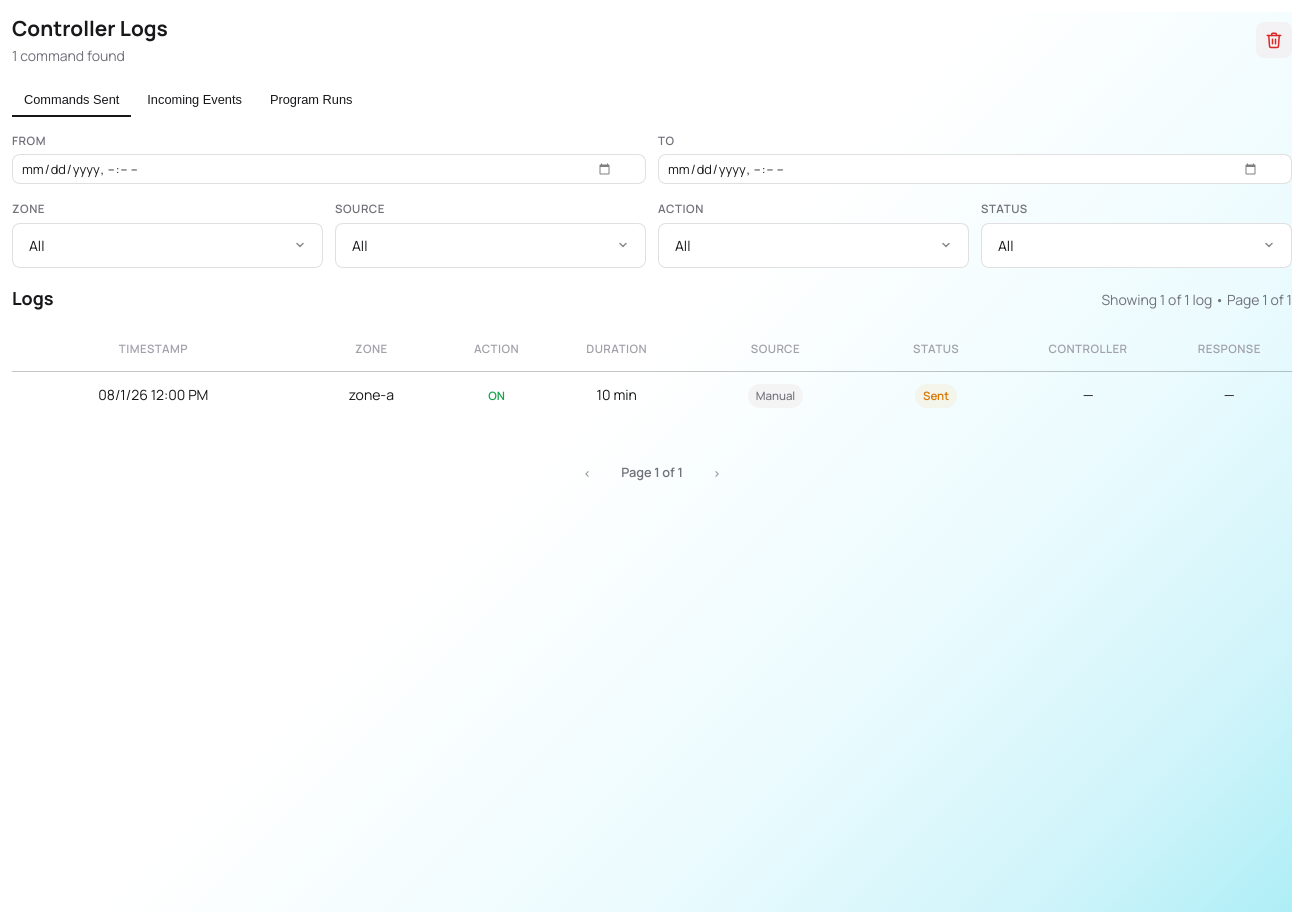
LogsPage › fetches sequential runs only after switching to the Program Runs tab
Click the button "Program Runs". click: coordinates (311, 100)
box: [258,84,364,117]
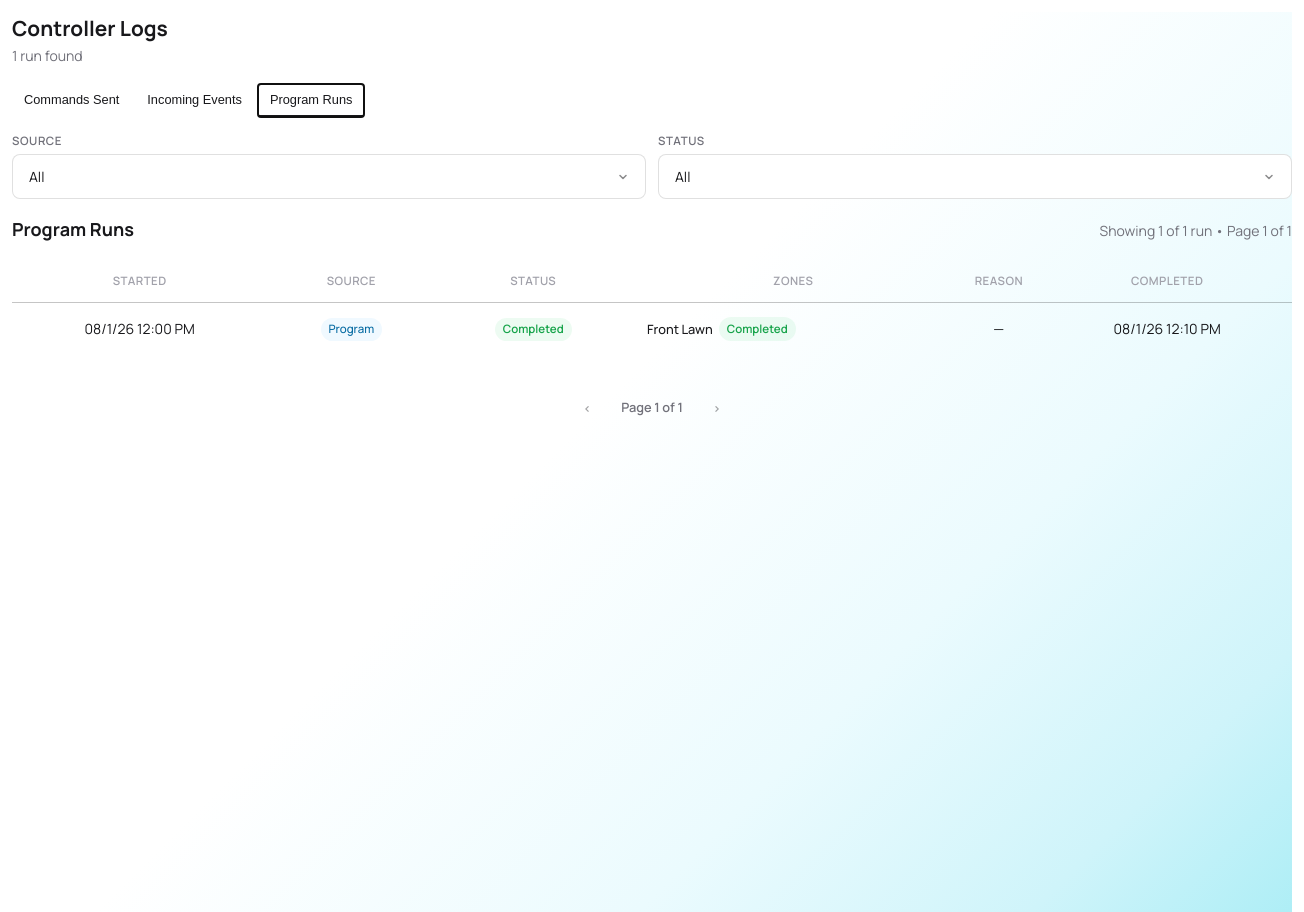
expect the text "1 run found" is shown: met, box [12,46,83,65]
